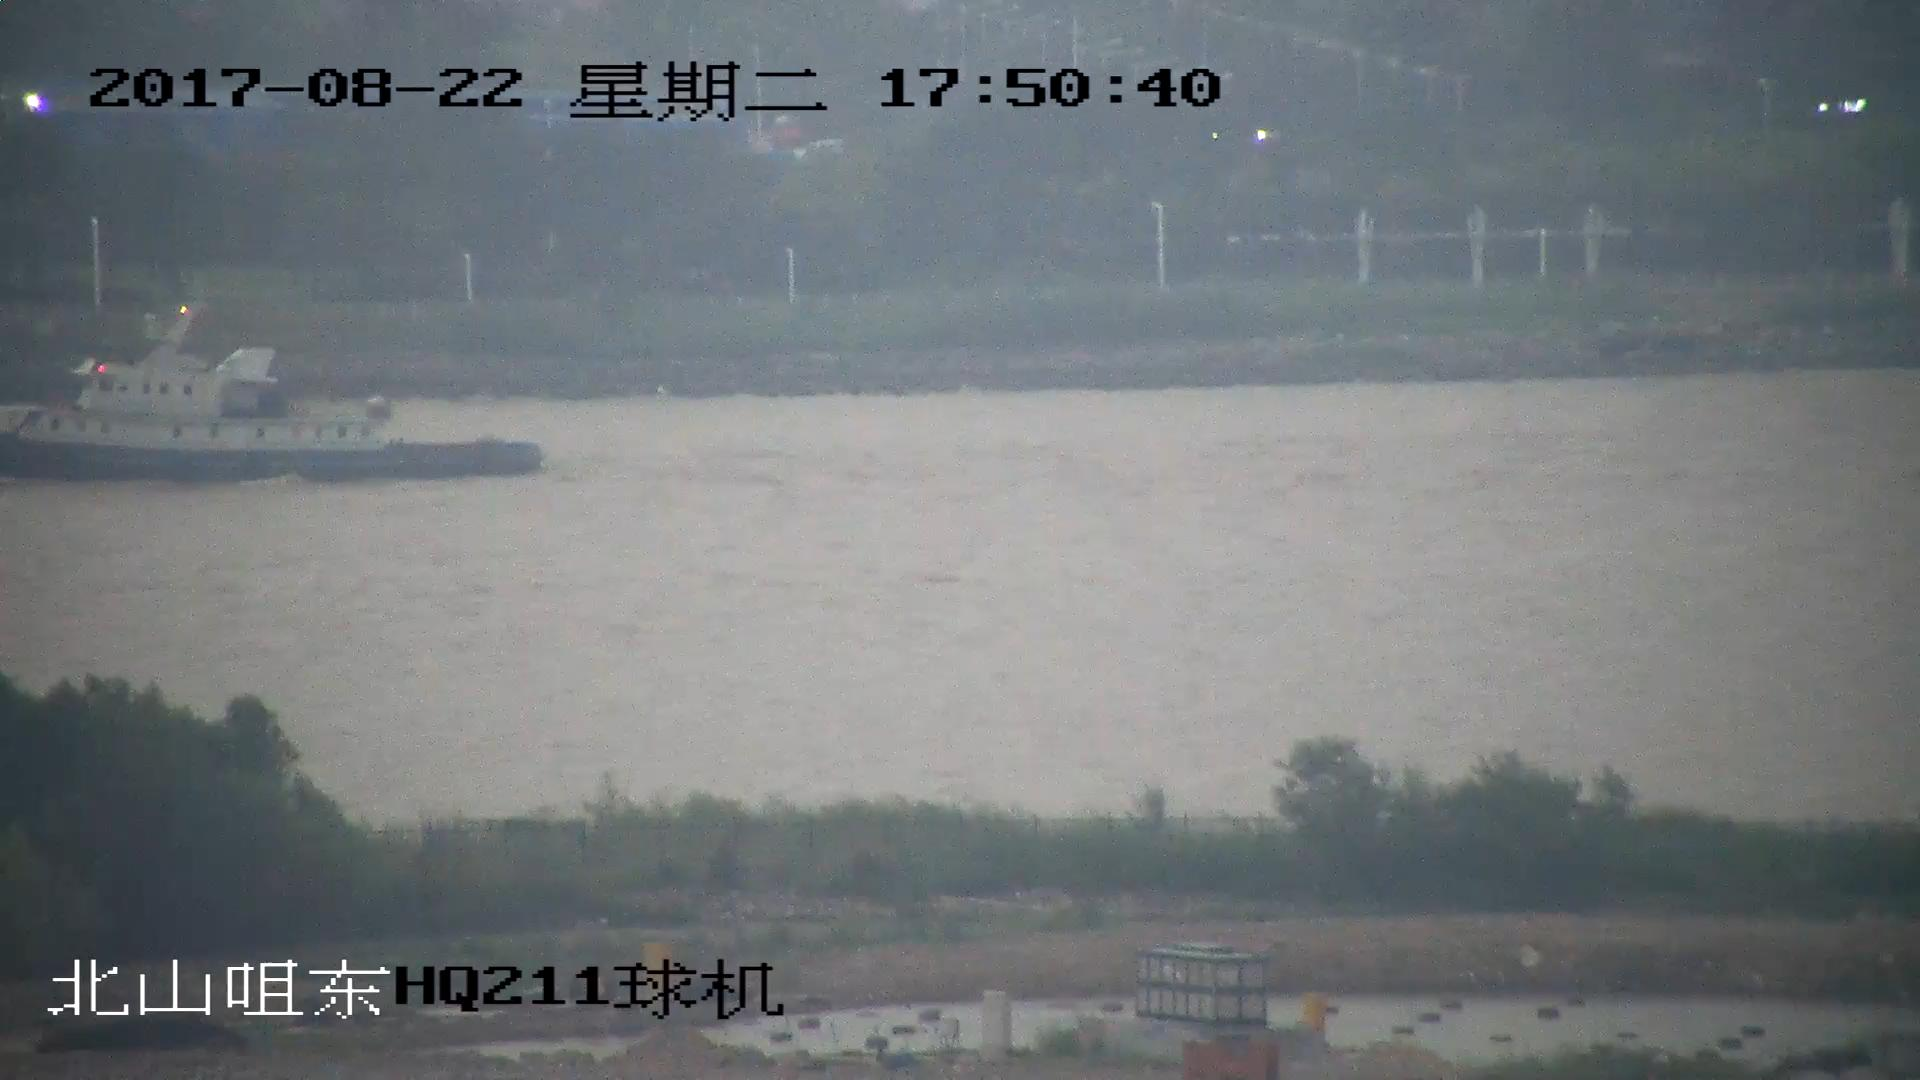passenger ship: (1, 305, 550, 479)
